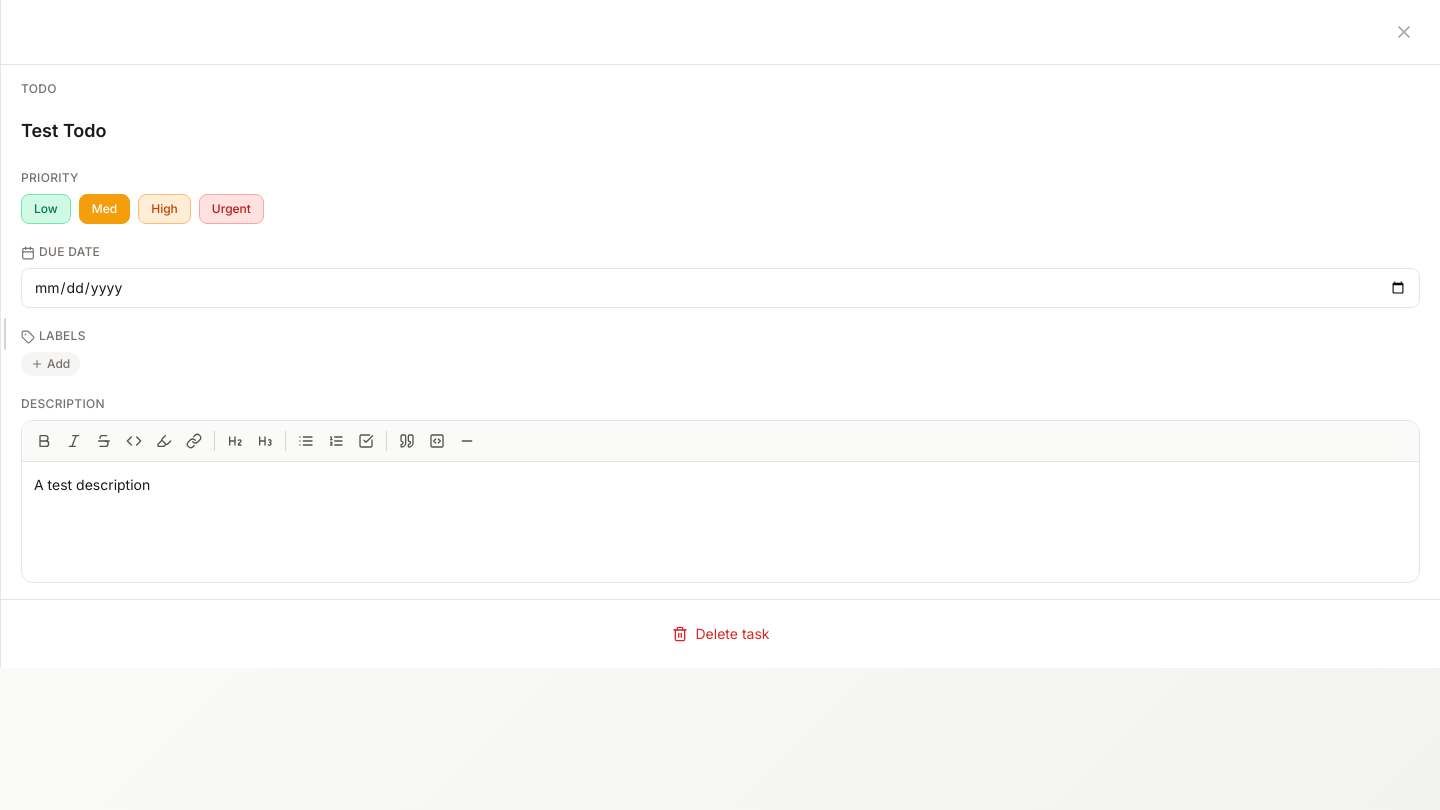
Test case: DetailPanel › labels › toggles label picker when Add button is clicked
What coordinates should you click on to do the following:
click the button "Add"
I would click on:
 (51, 364)
Its box is x1=21 y1=352 x2=80 y2=376.
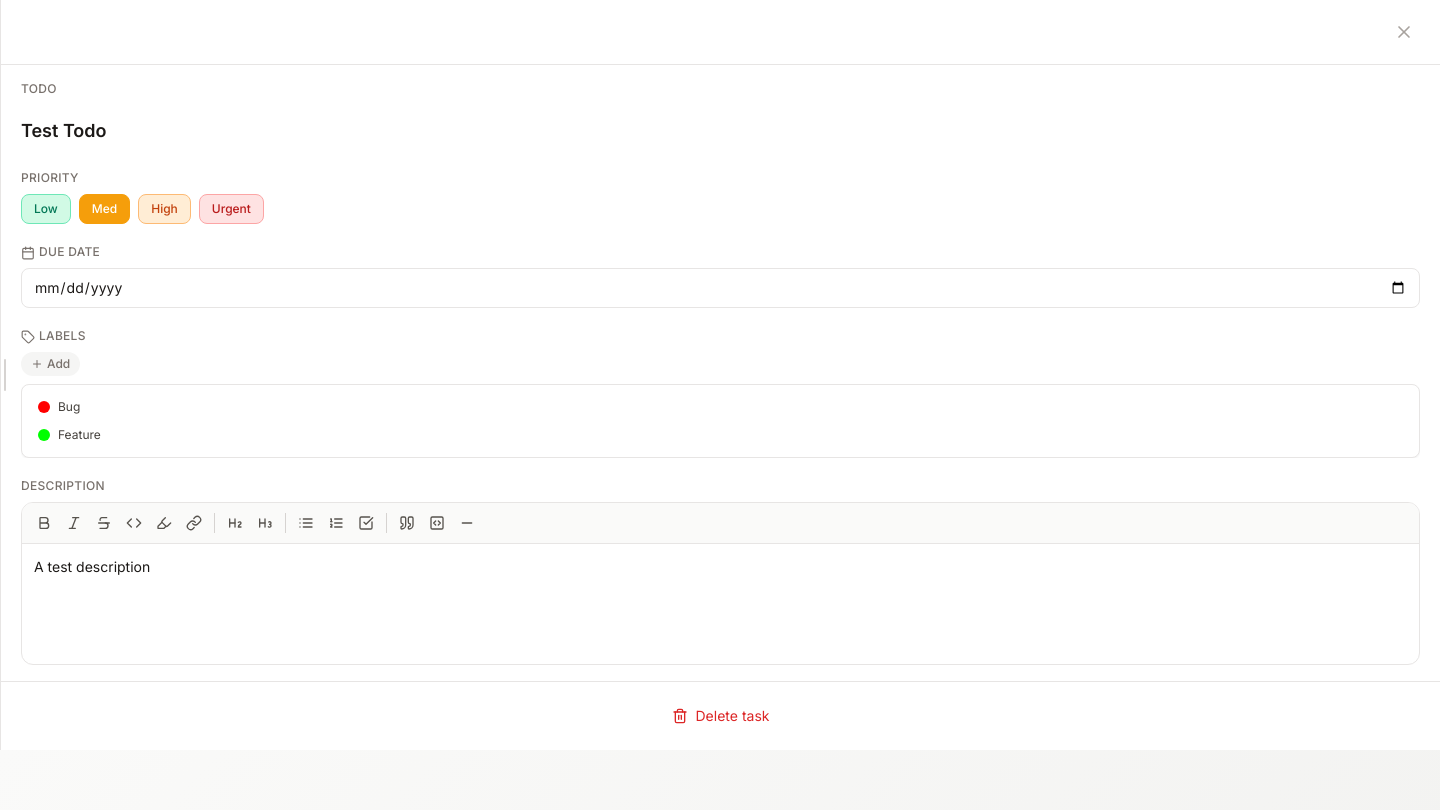
Now the text "Bug" is shown, box x1=58 y1=399 x2=80 y2=414
Now the text "Feature" is shown, box x1=58 y1=427 x2=101 y2=442
